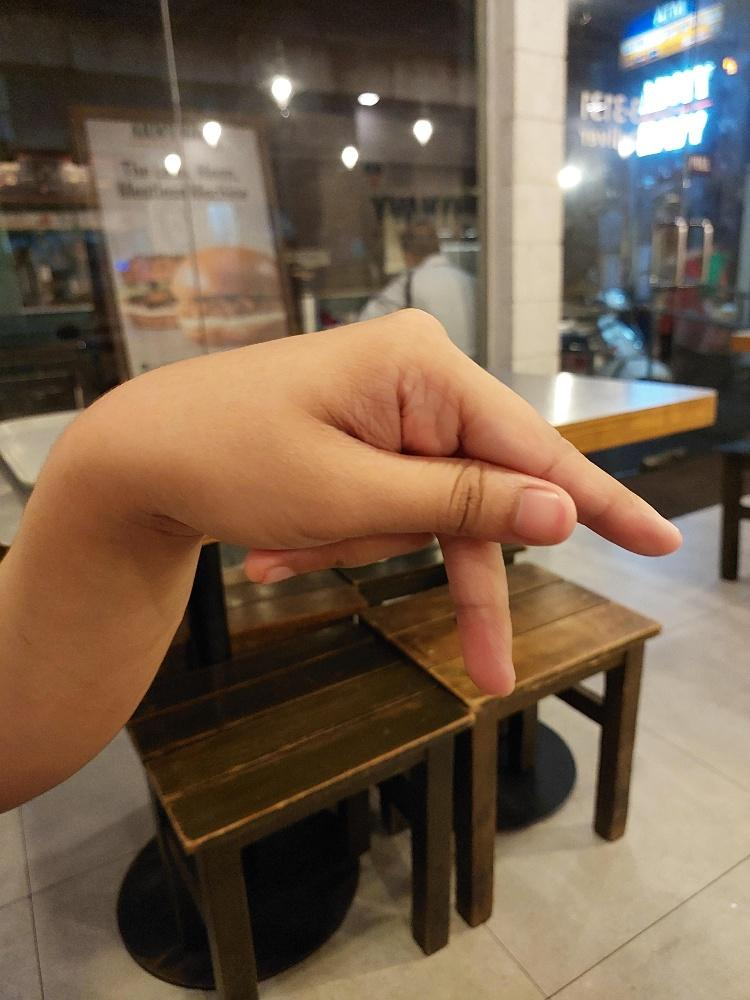p: (140, 305, 684, 696)
